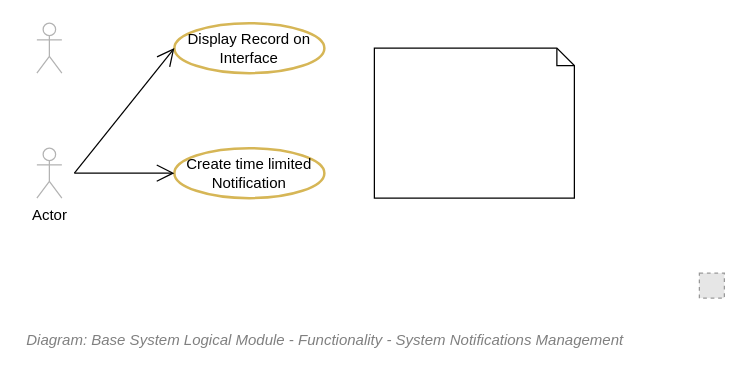
Some shapes in this 746 by 375 pixel diagram are drawn without their labels. Grey dashed boxes stand in for pictures. Each missing label, with the centre of its shape:
Daemon: (x=49, y=47)
System Notifications are presented to end users until dismissed and/or expire.: (x=473, y=122)
